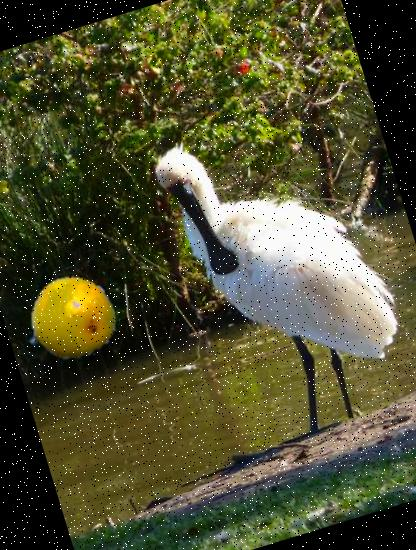Maracuja: (16, 264, 127, 375)
